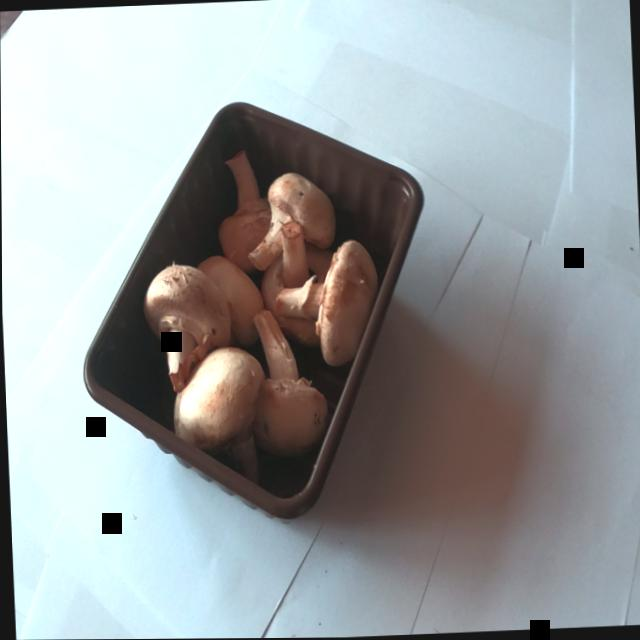Buttonmushroom: (48, 36, 474, 556)
